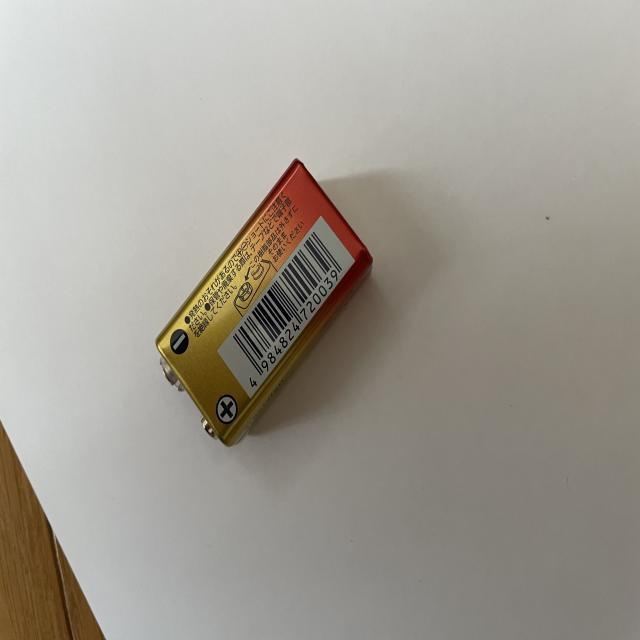9V: (157, 157, 373, 447)
